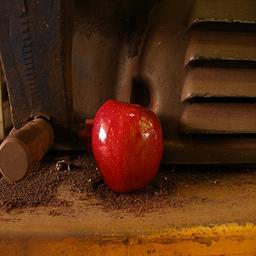apple: (91, 99, 164, 192)
